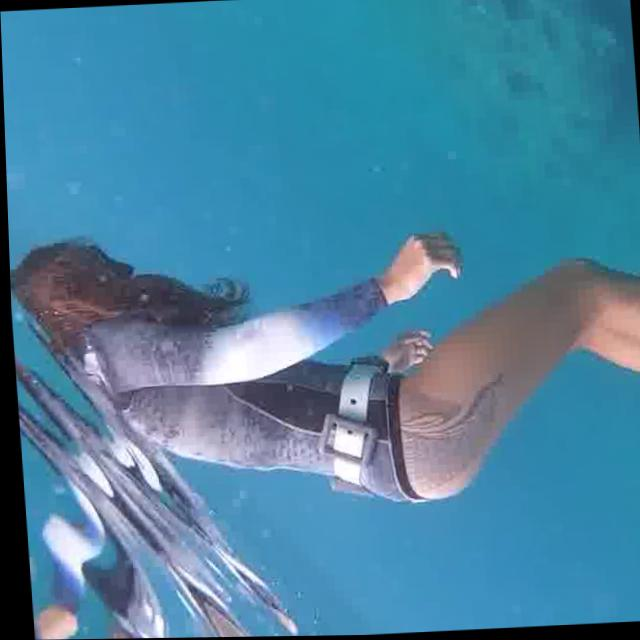human: (6, 199, 640, 530)
